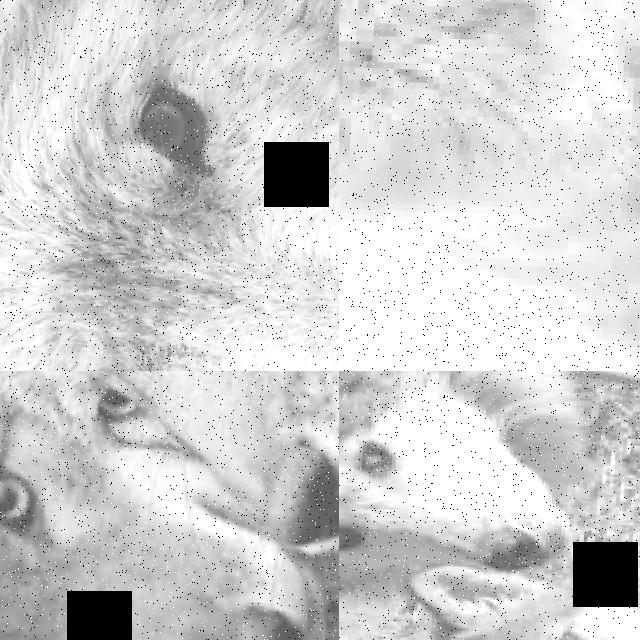dog: (339, 0, 640, 371)
wolf: (0, 0, 339, 371), (0, 371, 339, 640), (339, 371, 640, 598), (99, 371, 339, 640), (0, 371, 339, 560), (394, 538, 640, 640)
